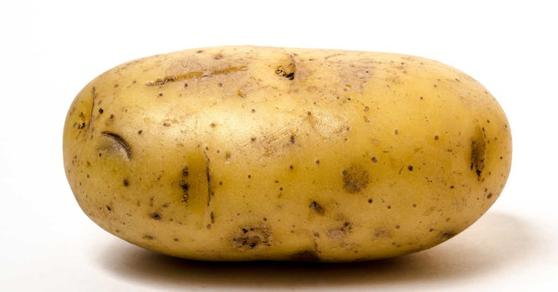potato: (65, 49, 512, 267)
